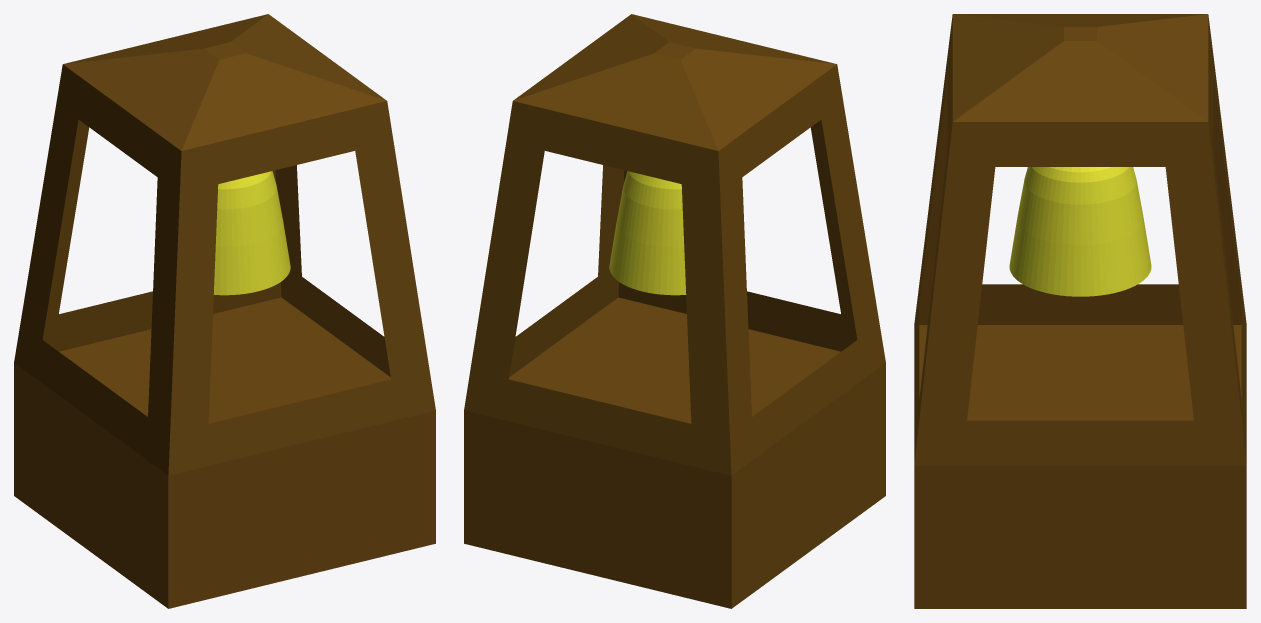
Rendered from TowerBell.fbx.
3 views of the same model, side by side, from view 1: azimuth 30°, elevation 25°; view 2: azimuth 150°, elevation 25°; view 3: azimuth 270°, elevation 25° (orthographic). The views are drawn at different scales.
Visible parts, largest first — view 1: Tower, Bell; view 2: Tower, Bell; view 3: Tower, Bell.
Part boxes in pixels (x1,y1,x2,y2): Tower: (14,14,435,608); Bell: (213,171,290,295); Tower: (464,14,885,608); Bell: (609,171,686,295); Tower: (914,14,1246,608); Bell: (1009,167,1151,296).
Size of the model in its own units: 280 by 469 by 280.
